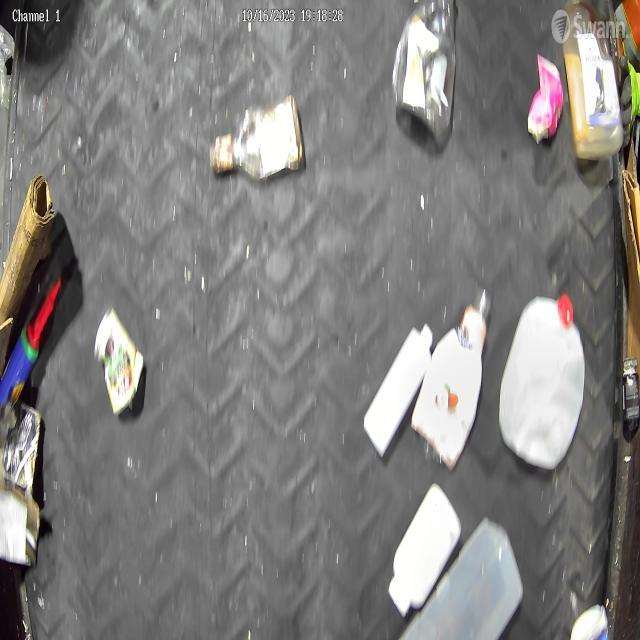can: (94, 303, 146, 419), (524, 51, 564, 147)
milk_jug: (500, 289, 588, 473), (398, 514, 526, 640)
